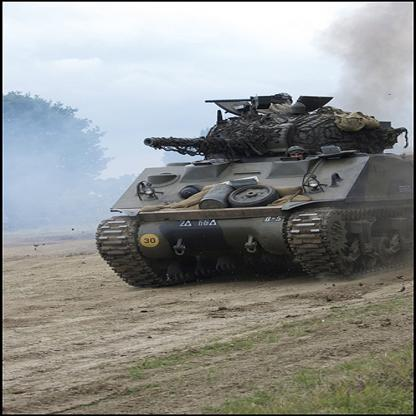Tank: (89, 82, 416, 296)
